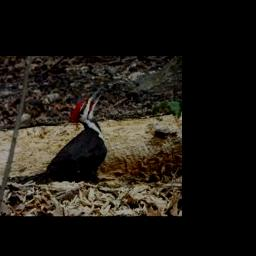Woodpecker: (17, 88, 108, 184)
